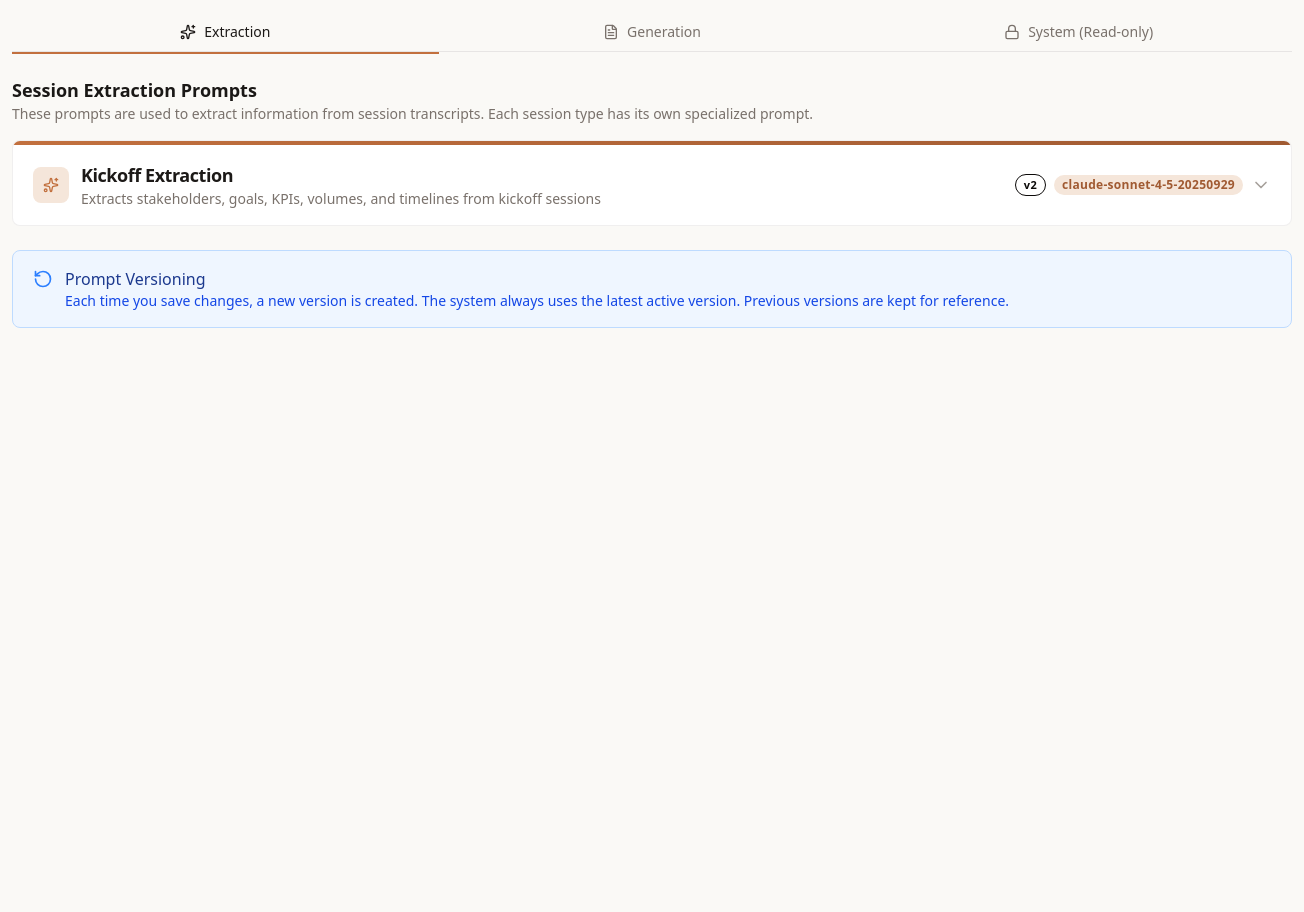
Test case: PromptManager › exits edit mode when Cancel is clicked
Step 1. Click the heading "Kickoff Extraction" → point(157, 175), box [81,163,233,187]
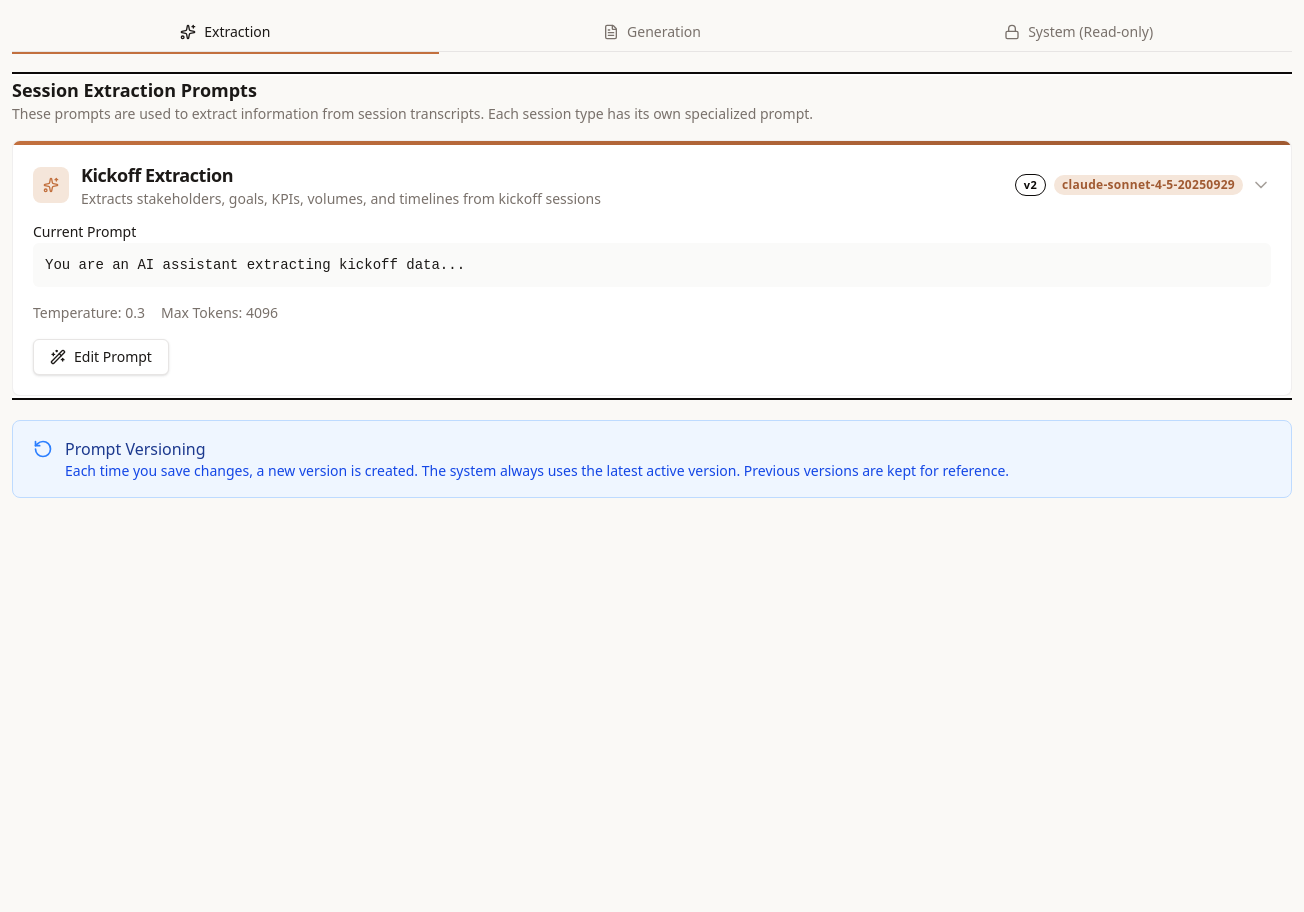
Now the button "Edit Prompt" is shown
Step 2. Click the button "Edit Prompt" → point(101, 357), box [33,339,169,375]
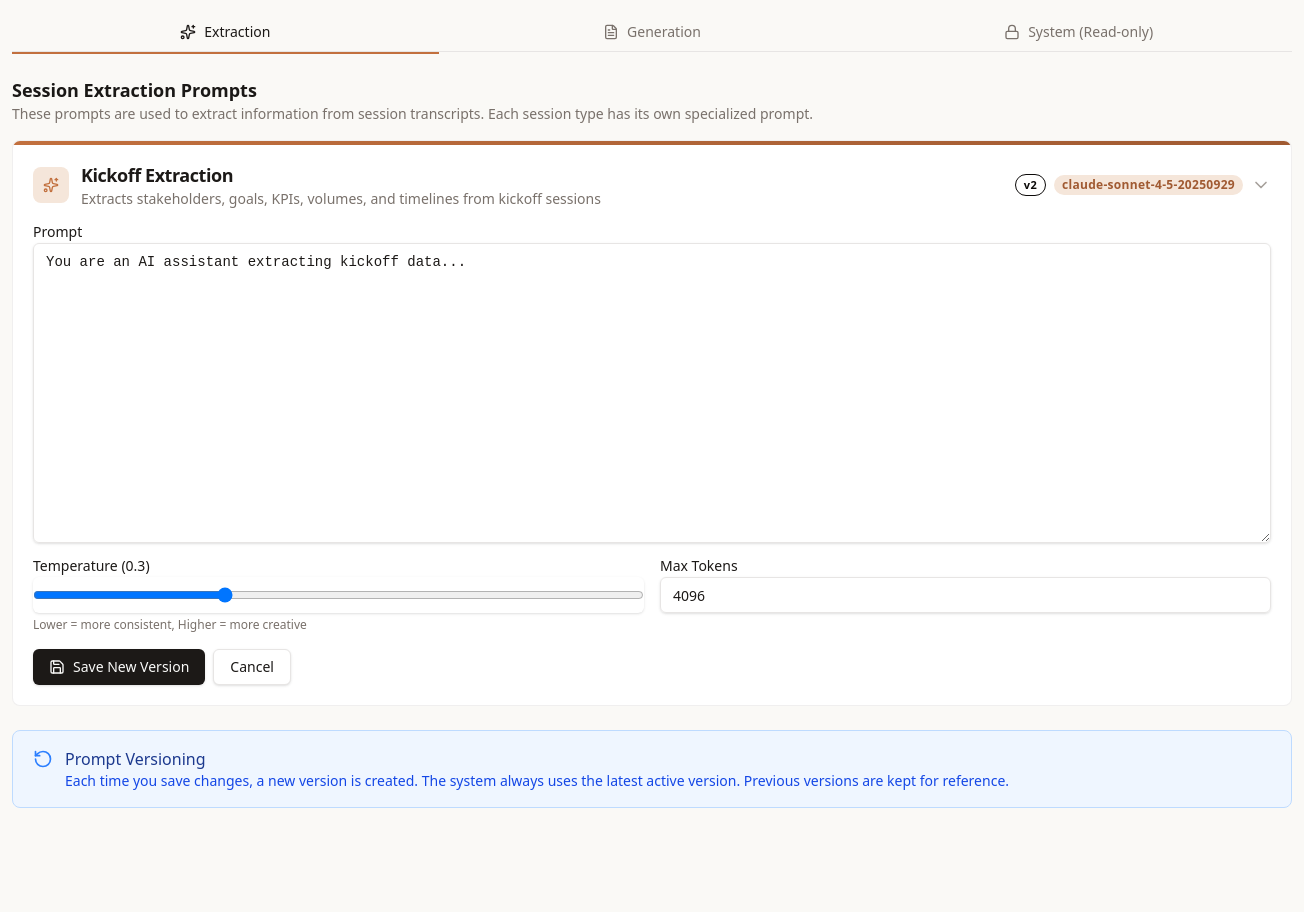
Now the button "Cancel" is shown
Step 3. Click the button "Cancel" → point(252, 667), box [213,649,291,685]
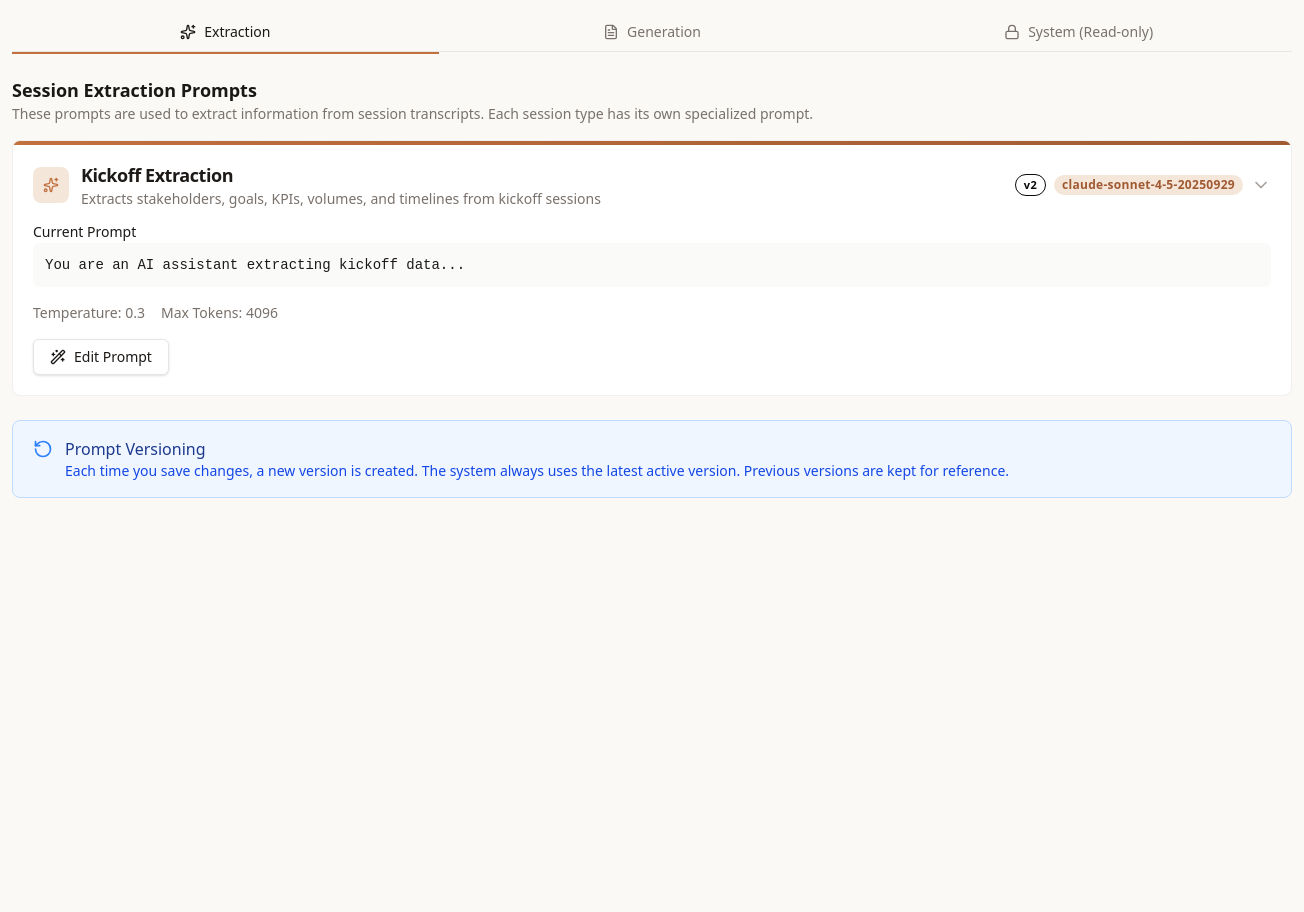
Now the button "Edit Prompt" is shown, box [33,339,169,375]
Now the button "Save New Version" is gone
